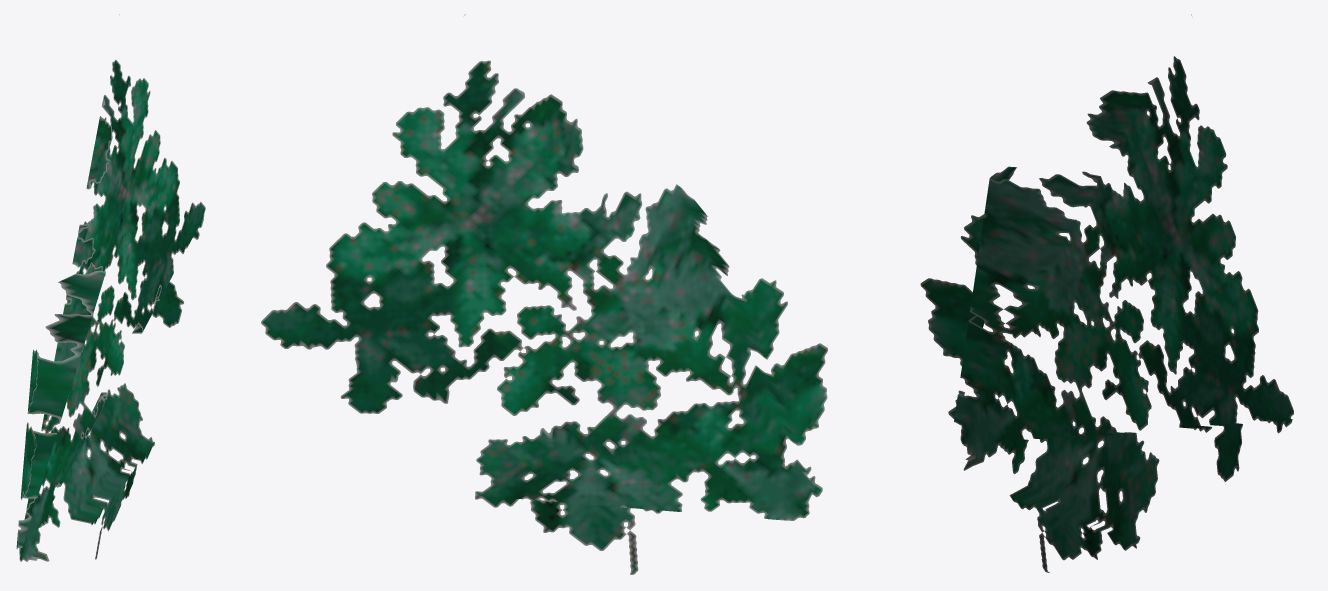
The model's file is Green Bush 2.fbx.
The picture shows the model from 3 angles, left to right: view 1: azimuth 30°, elevation 25°; view 2: azimuth 150°, elevation 25°; view 3: azimuth 270°, elevation 25°; orthographic projection. The views are drawn at different scales.
Parts seen in each view (by area): view 1: Grass.005; view 2: Grass.005; view 3: Grass.005.
Boxes of the visible parts, bbox=[...] form: Grass.005: bbox=[16, 14, 205, 561]; Grass.005: bbox=[261, 14, 827, 574]; Grass.005: bbox=[920, 14, 1293, 572].
Size of the model in its own units: 352 by 481 by 308.
